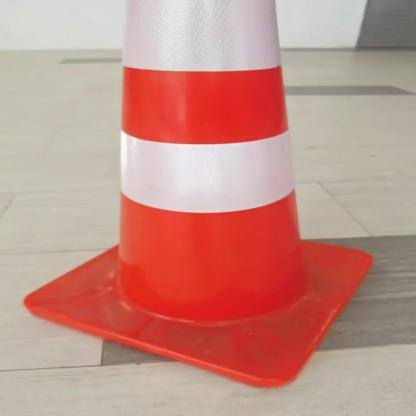cone: (15, 7, 389, 386)
